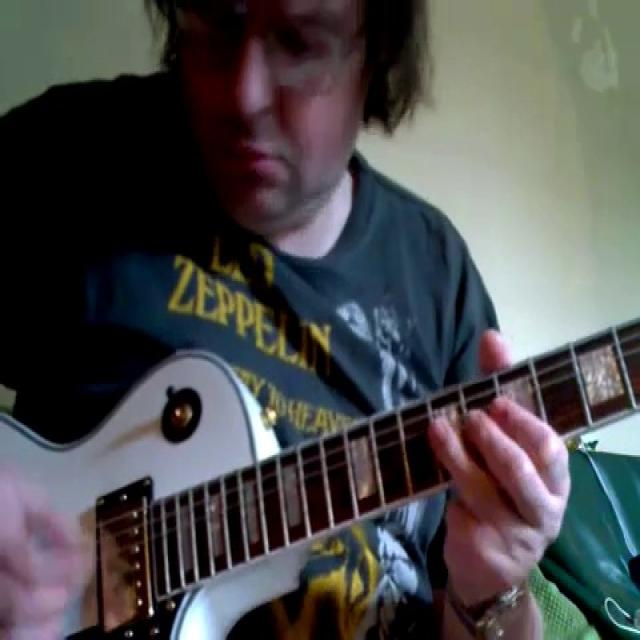Guitar: (6, 308, 640, 640)
